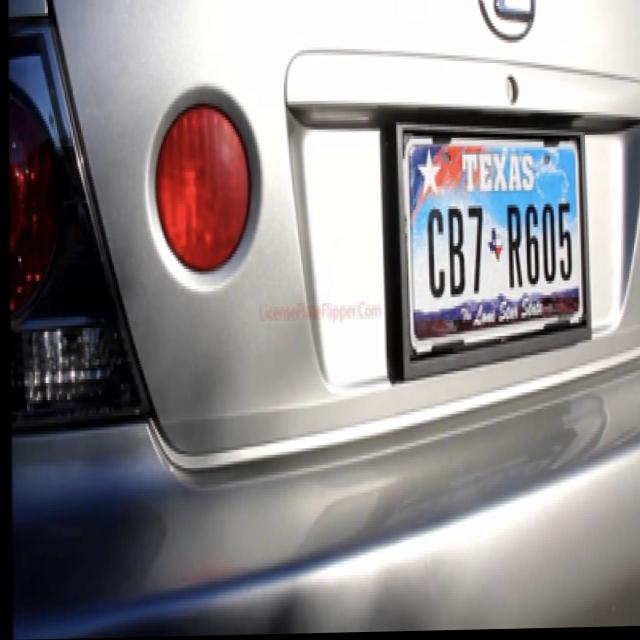licence: (398, 123, 589, 357)
